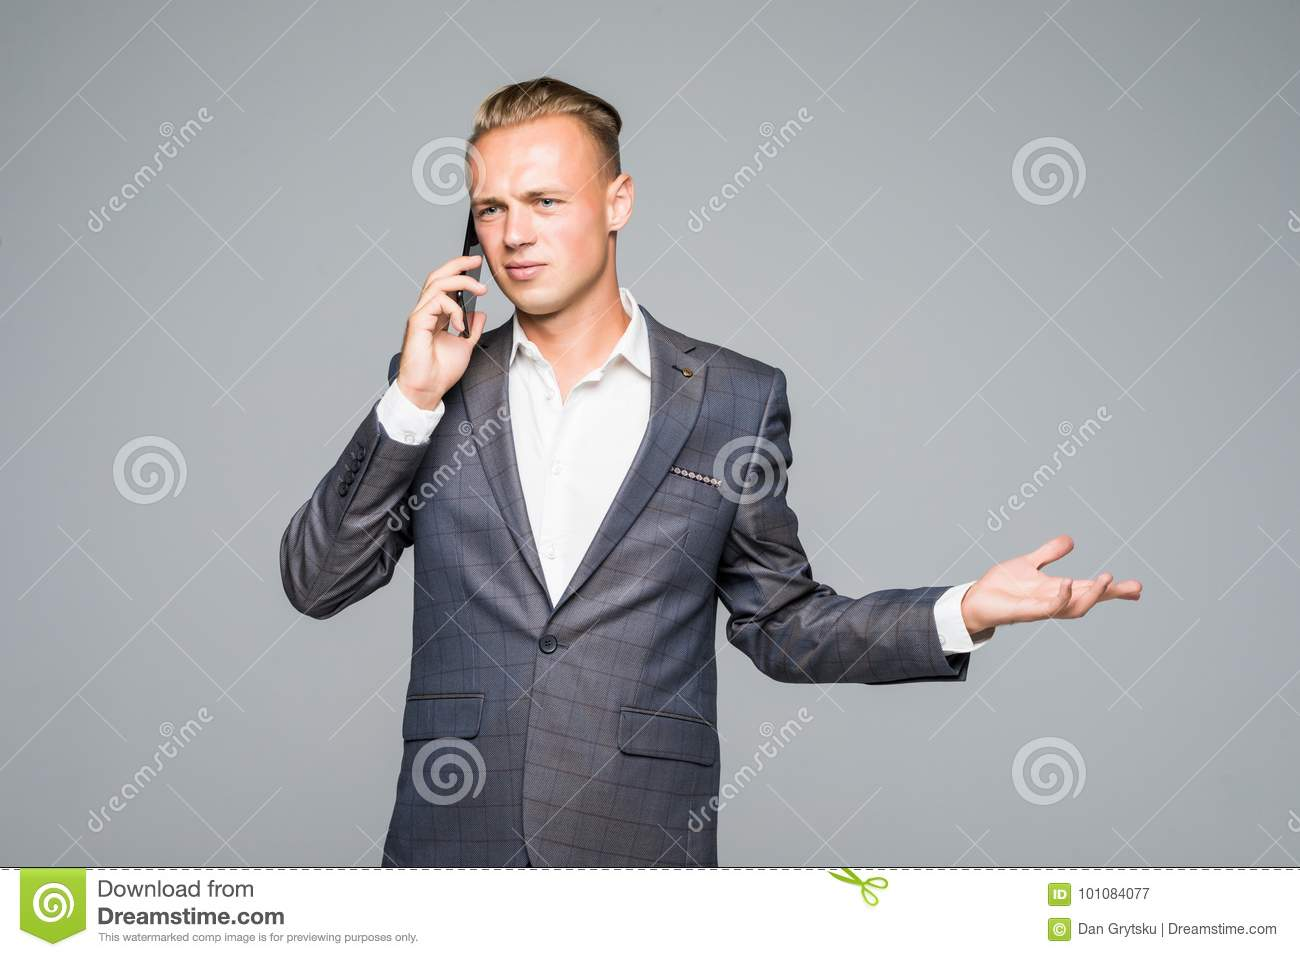phone: (438, 195, 491, 360)
talk: (402, 178, 593, 410)
